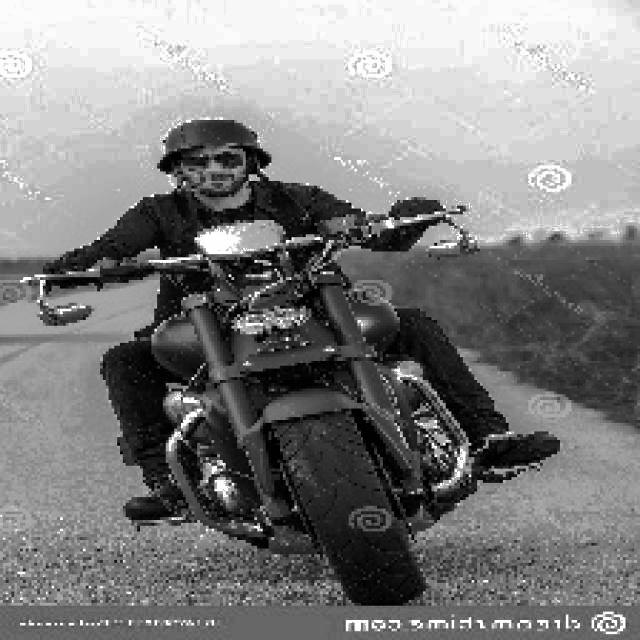Bike: (112, 241, 484, 599)
